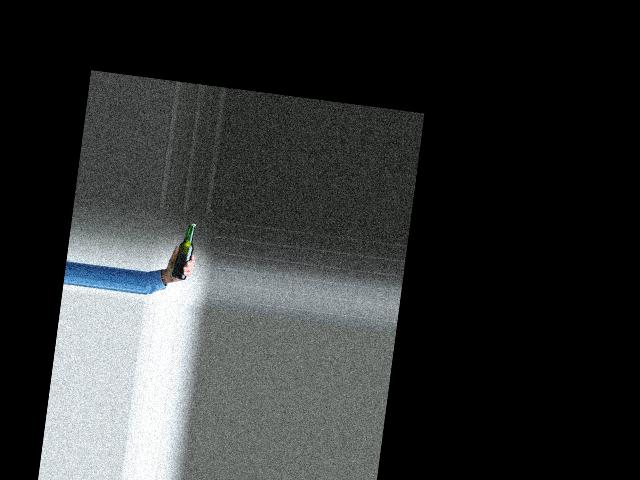beer: (171, 222, 197, 279)
